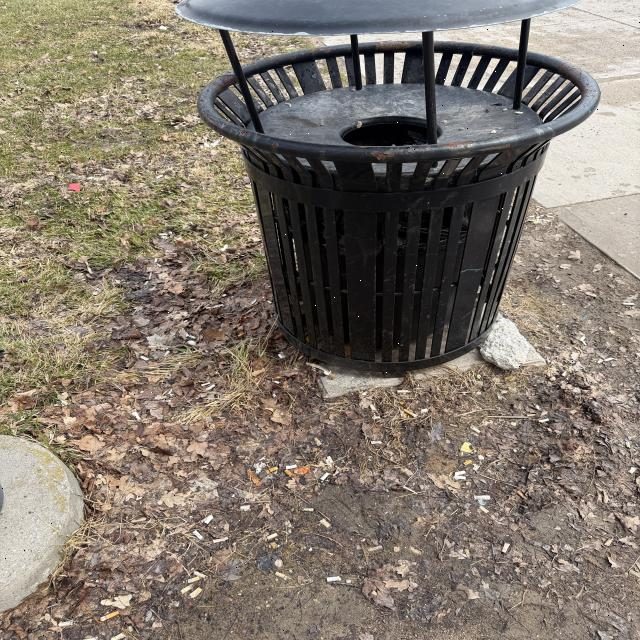Dustbin: (172, 0, 602, 377)
